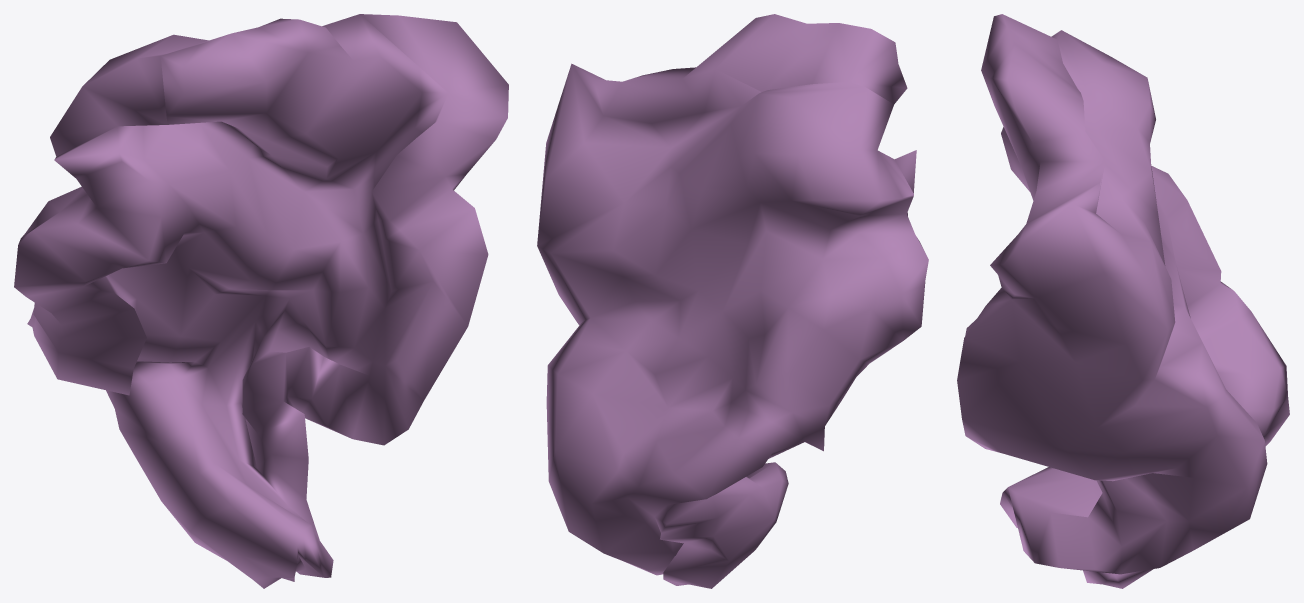
3 renders of one model, left to right at view 1: azimuth 30°, elevation 25°; view 2: azimuth 150°, elevation 25°; view 3: azimuth 270°, elevation 25°, orthographic. The views are drawn at different scales.
Visible parts, largest first — view 1: 左侧岛叶（中央下回与前后沟）; view 2: 左侧岛叶（中央下回与前后沟）; view 3: 左侧岛叶（中央下回与前后沟）.
Part boxes in pixels (box(x1,y1,x2,y2)): 左侧岛叶（中央下回与前后沟）: box(14, 14, 508, 588); 左侧岛叶（中央下回与前后沟）: box(537, 14, 928, 588); 左侧岛叶（中央下回与前后沟）: box(957, 14, 1289, 588).
Size of the model in its own units: 0.0414 by 0.0555 by 0.0325.
